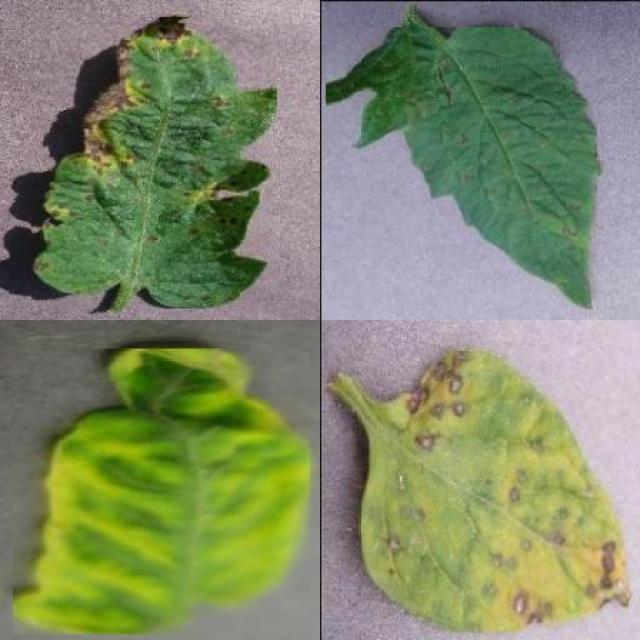Septoria: (358, 347, 628, 633), (326, 27, 598, 310), (32, 18, 278, 308)
Yellow Leaf Curl Virus: (13, 349, 310, 634)
